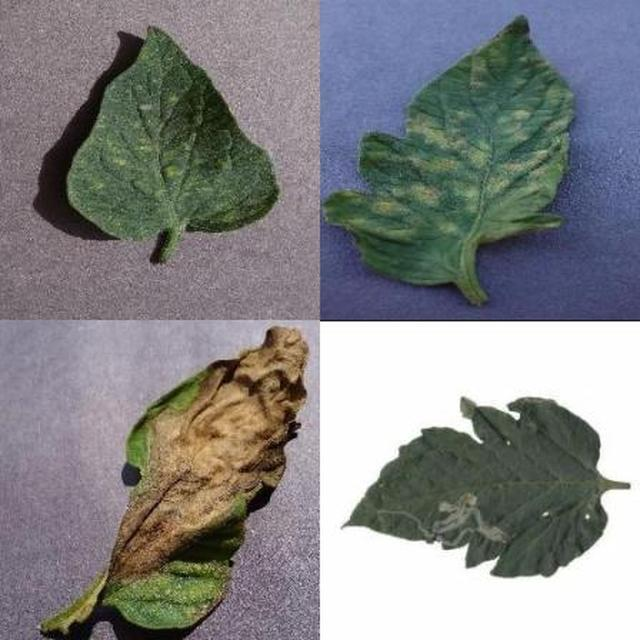Spider Mites Leaf: (248, 188, 640, 640)
